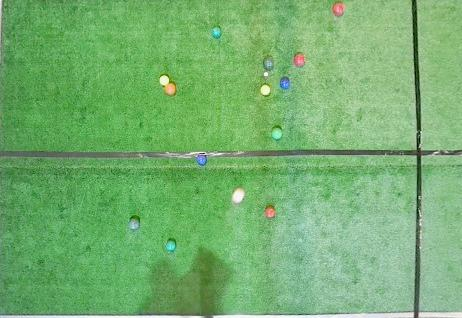blue: (280, 77, 290, 89), (196, 155, 207, 165)
green: (128, 217, 140, 230), (271, 128, 283, 139), (263, 58, 274, 70), (211, 26, 222, 38), (166, 239, 176, 251)
red: (232, 189, 245, 203), (332, 3, 344, 16), (294, 54, 305, 67), (265, 206, 276, 218), (165, 83, 176, 95)
vline: (411, 0, 461, 317), (0, 0, 6, 317)
white: (264, 72, 268, 76)
yellow: (260, 85, 270, 96), (159, 75, 169, 86)
